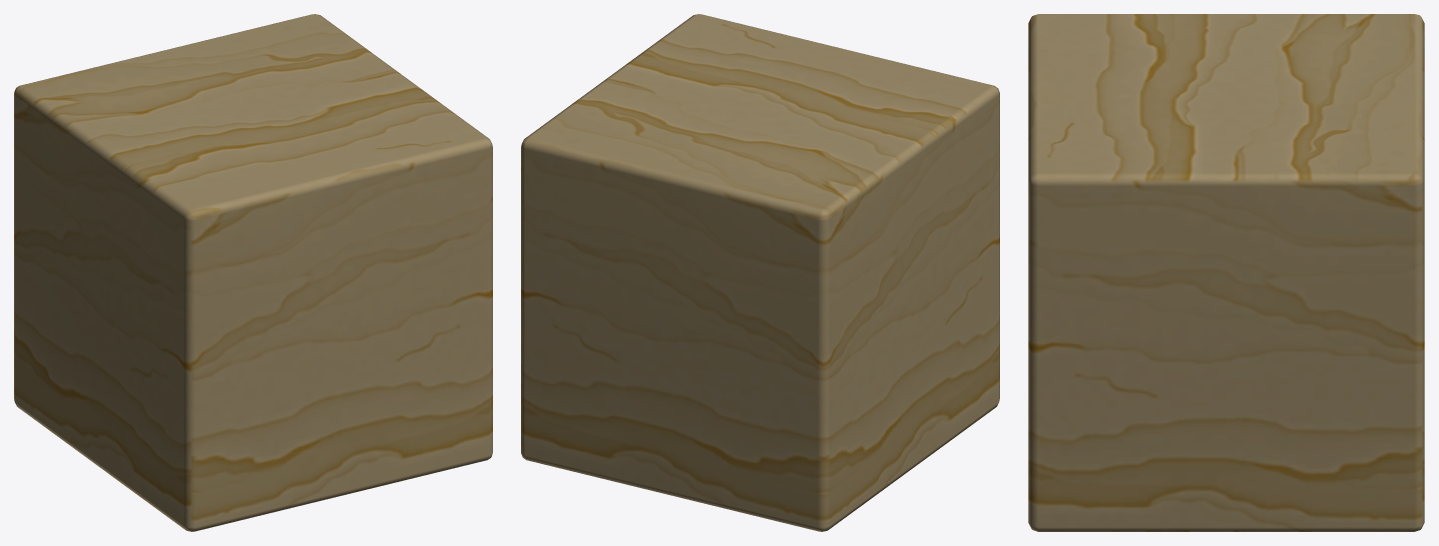
File: SM_Platform_2m_01_D.glb
3 views of the same model, side by side, from view 1: azimuth 30°, elevation 25°; view 2: azimuth 150°, elevation 25°; view 3: azimuth 270°, elevation 25° (orthographic). The views are drawn at different scales.
Parts seen in each view (by area): view 1: SM_Platform_2m_01_D; view 2: SM_Platform_2m_01_D; view 3: SM_Platform_2m_01_D.
Part boxes in pixels (x1,y1,x2,y2): SM_Platform_2m_01_D: (14, 14, 492, 531); SM_Platform_2m_01_D: (521, 14, 999, 531); SM_Platform_2m_01_D: (1028, 14, 1424, 531).
Size of the model in its own units: 2 by 2 by 2.
Materials: 1 (1 with a texture image).
